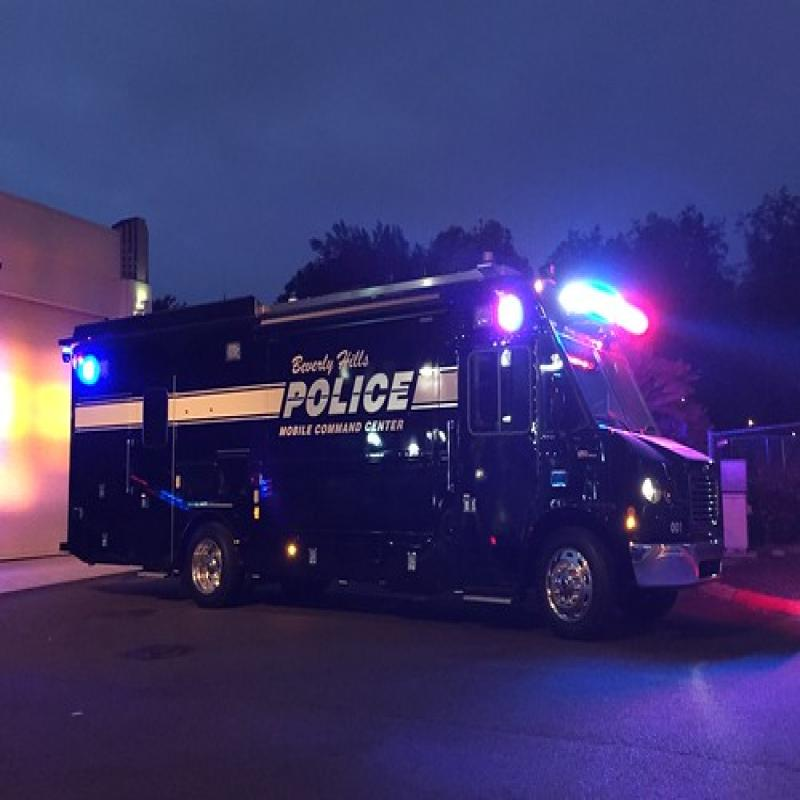AmbulanceSiren: (523, 242, 674, 360)
